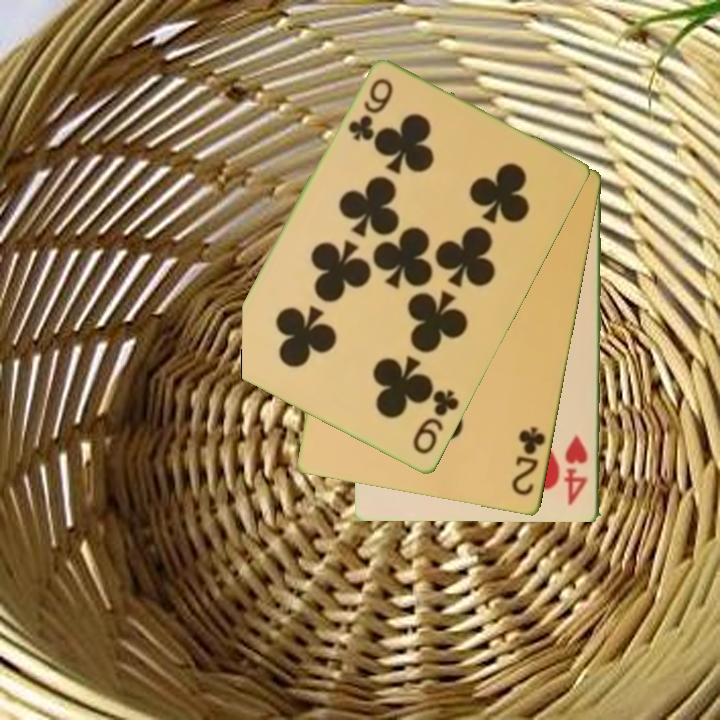2c: (508, 423, 549, 500)
4h: (563, 433, 591, 509)
9c: (409, 386, 462, 459), (344, 75, 397, 145)
